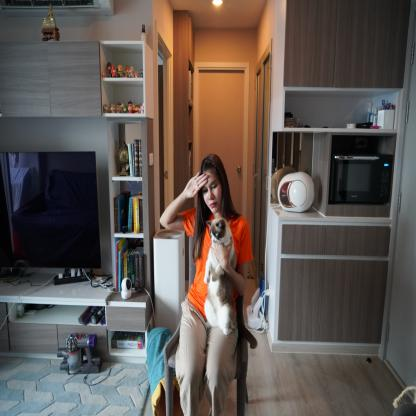Sick: (177, 169, 213, 205)
